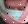with_mask: (2, 2, 28, 24)
